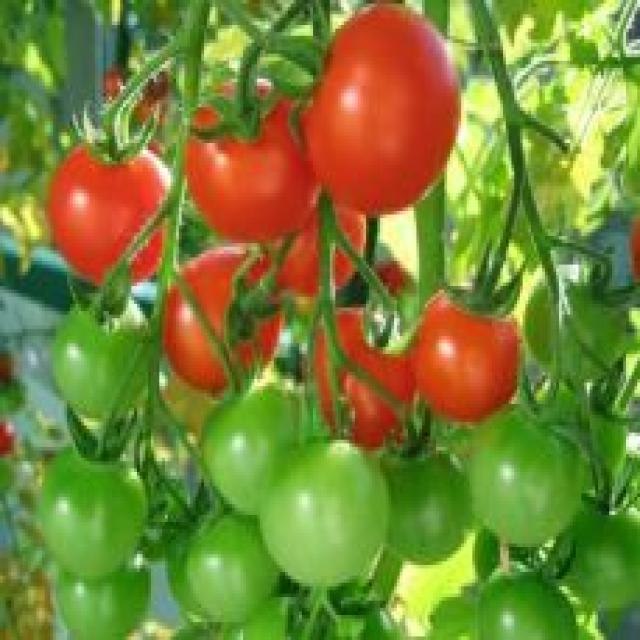level 1: (26, 422, 158, 578), (53, 282, 160, 424), (376, 440, 475, 570), (565, 479, 640, 623), (45, 554, 153, 637), (464, 572, 595, 640), (154, 505, 223, 629)
level 2: (255, 419, 393, 598), (469, 397, 593, 556), (193, 382, 332, 510), (190, 512, 290, 622), (211, 600, 323, 638)
level 5: (405, 276, 525, 447)
level 6: (296, 0, 475, 222), (157, 90, 343, 246), (31, 113, 180, 296), (162, 240, 293, 391), (310, 286, 413, 442), (263, 179, 376, 318)
